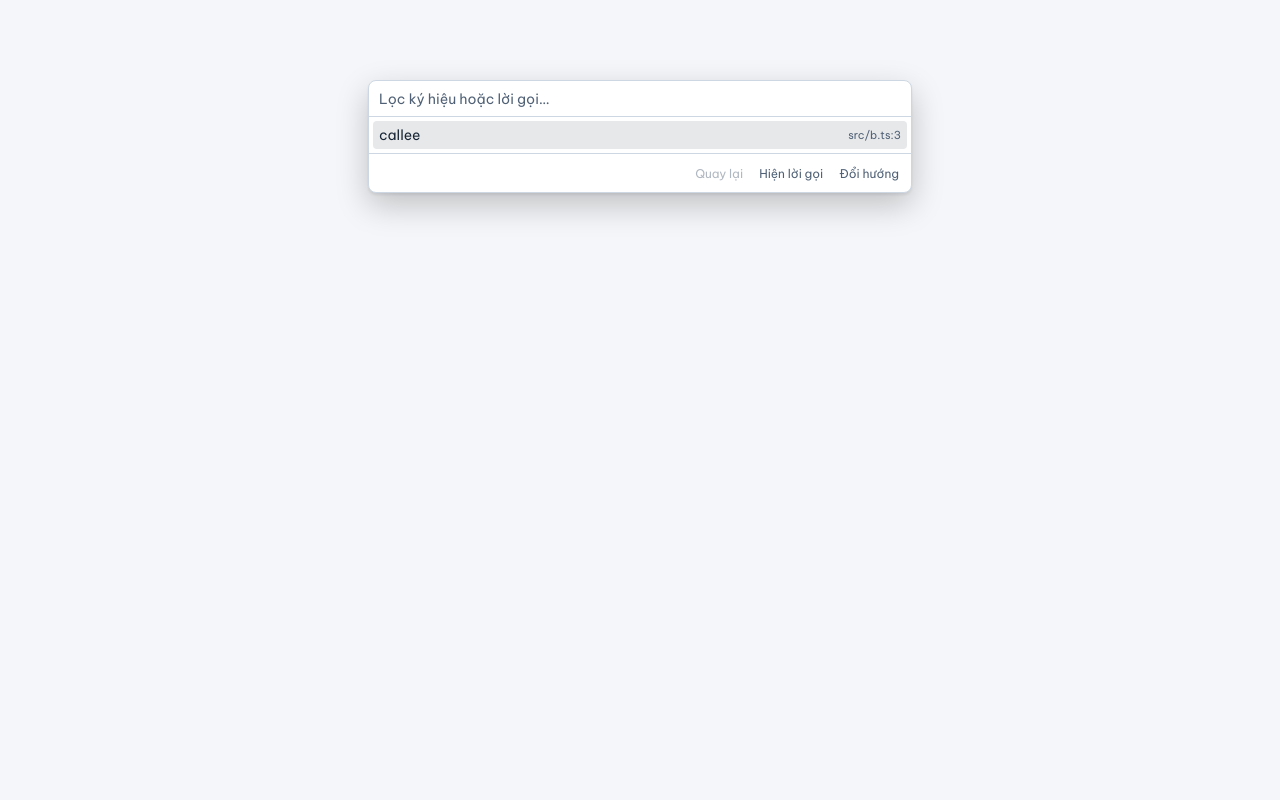
Test: EditorTools › EditorTools E3 › phân cấp lời gọi › outgoing gộp nhiều lời gọi dưới tên tệp gốc
Click the text "callee". click: [400, 135]
box: [379,126,420,144]
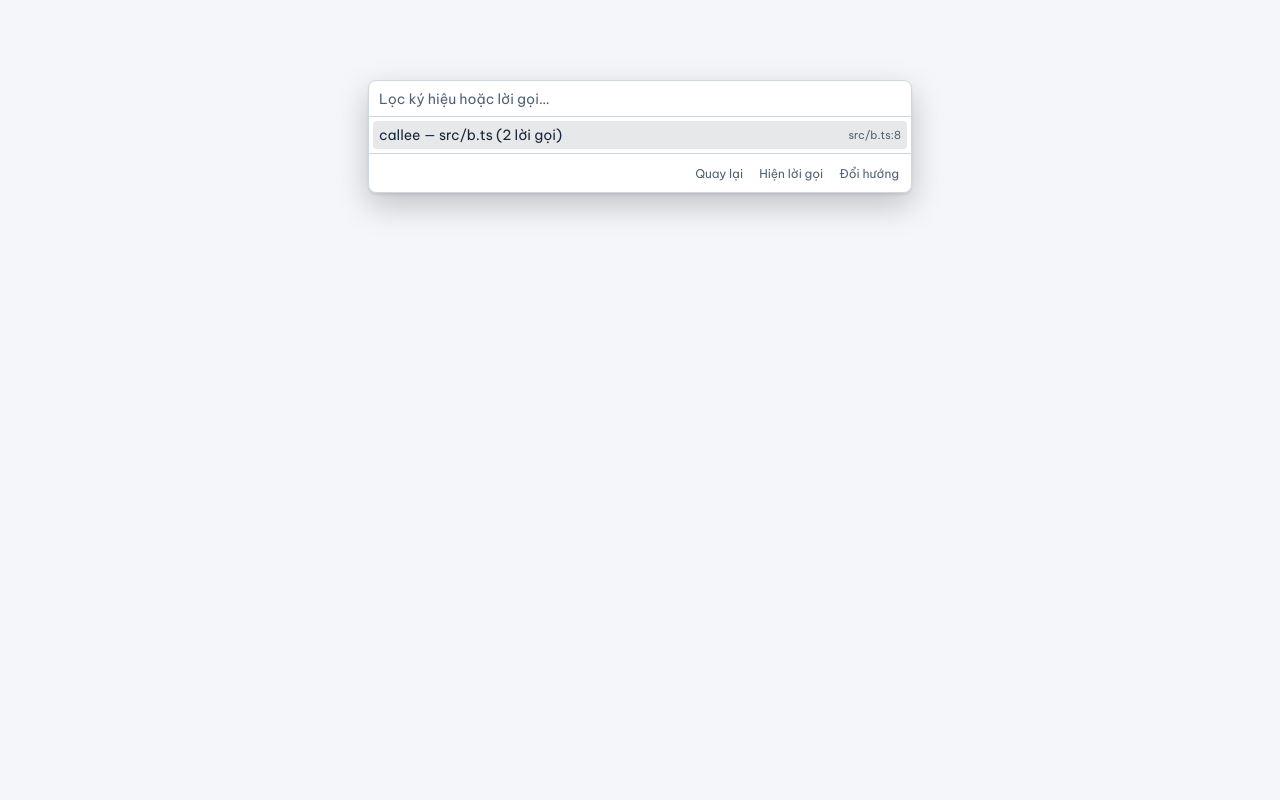
Check: the text "callee — src/b.ts (2 lời gọi)" is shown, box [379,126,562,144]
